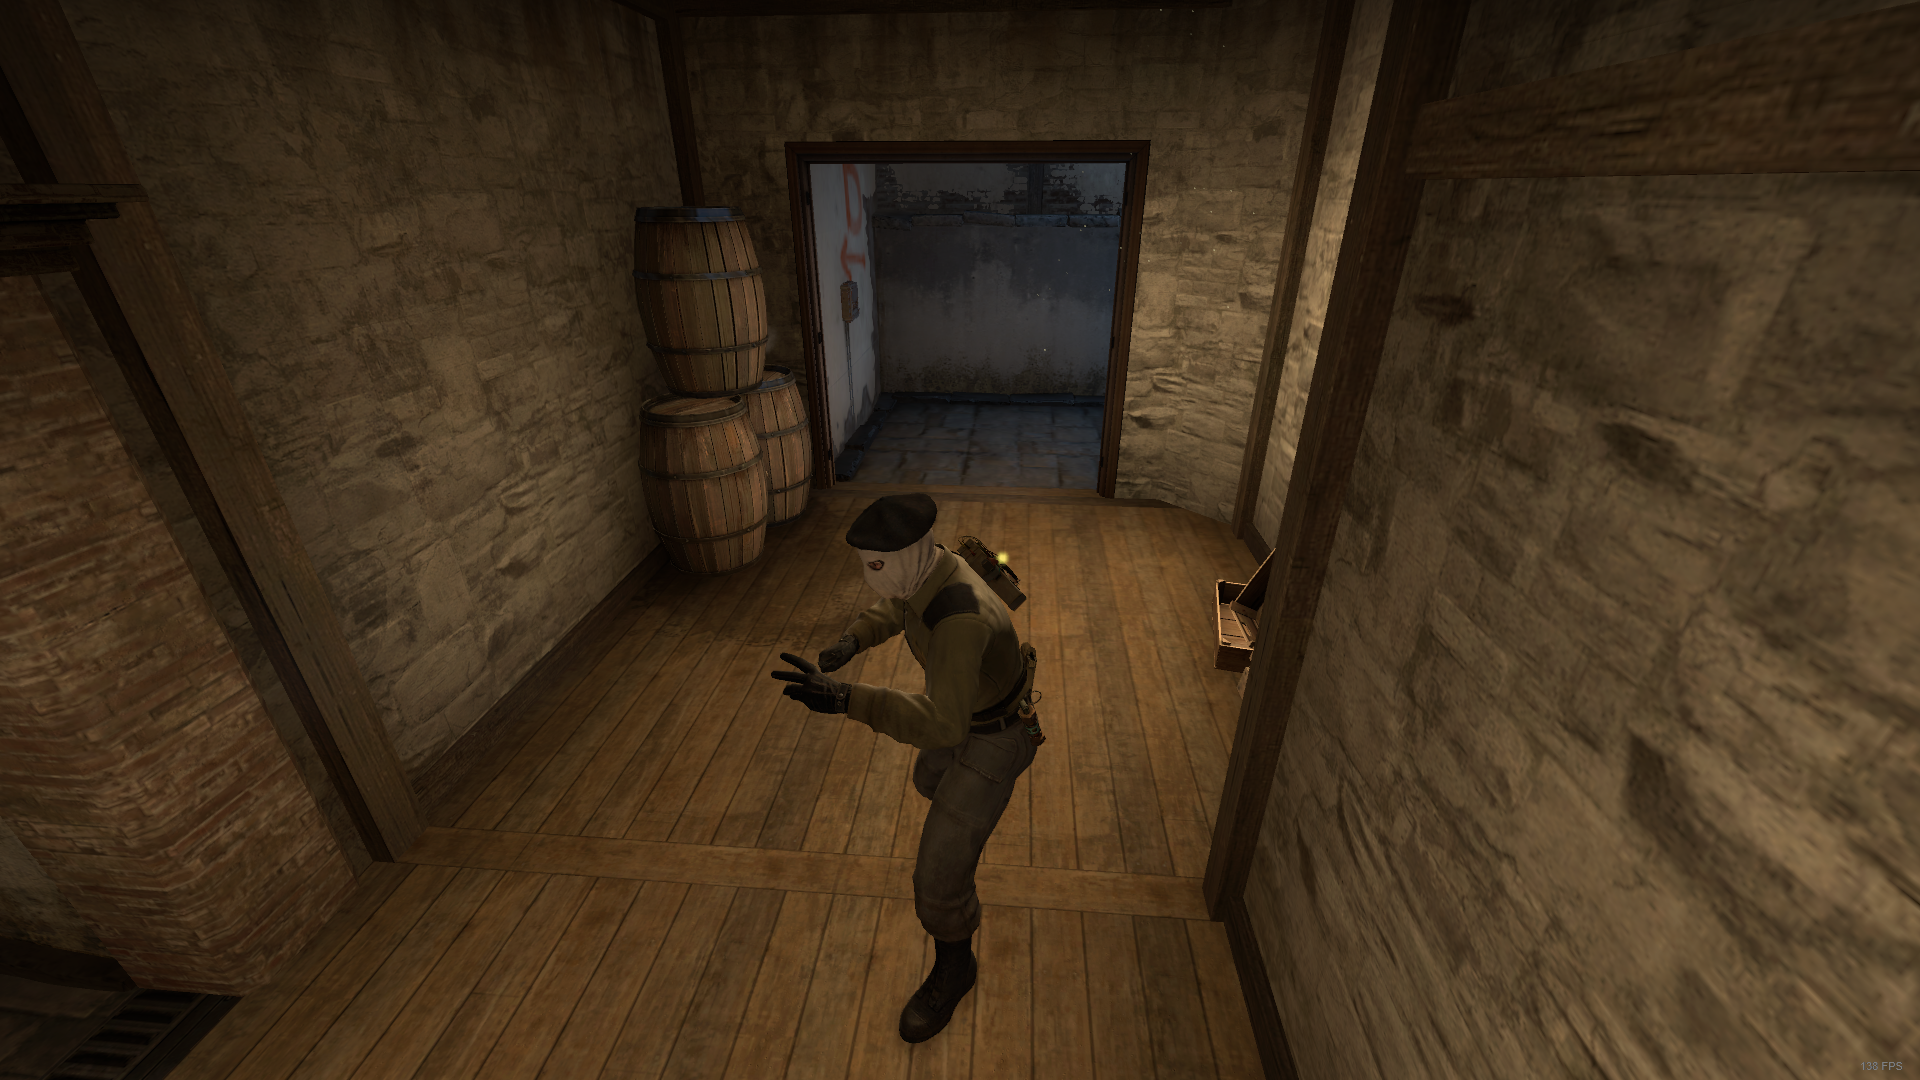t: (785, 495, 1048, 1042)
